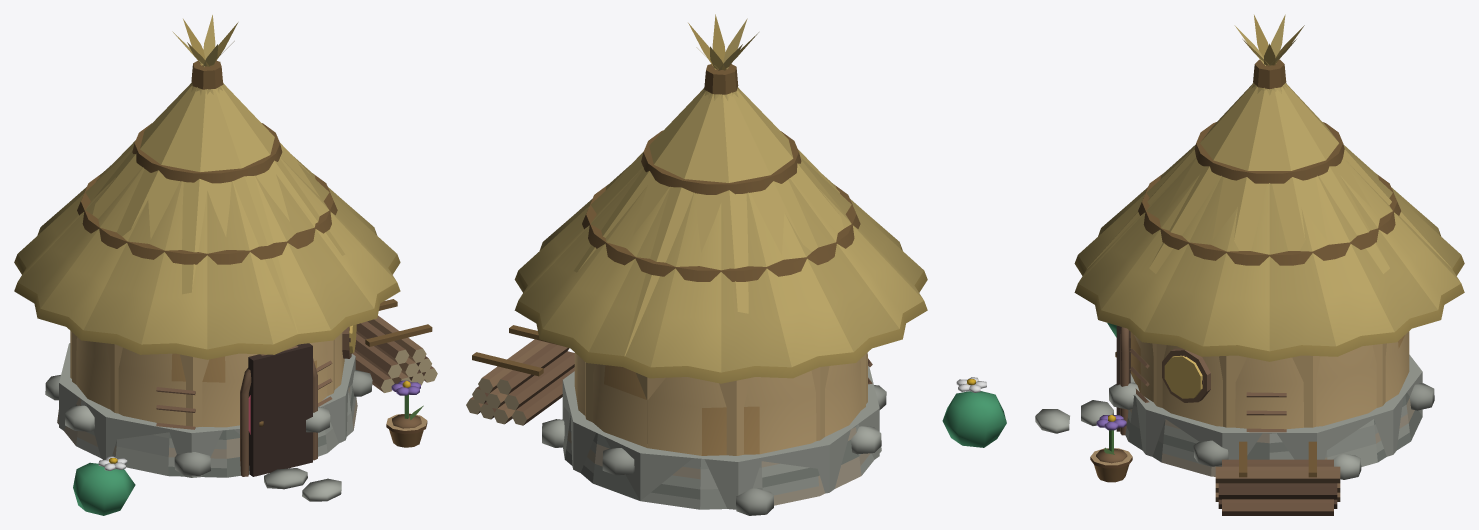
File: cottage_c.glb
The picture shows the model from 3 angles, left to right: view 1: azimuth 30°, elevation 25°; view 2: azimuth 150°, elevation 25°; view 3: azimuth 270°, elevation 25°; orthographic projection. The views are drawn at different scales.
Parts seen in each view (by area): view 1: body_nl, body__far, body, body_nh; view 2: body_nl, body, body__far, body_nh; view 3: body_nl, body, body__far, body_nh.
Part boxes in pixels (x1,y1,x2,y2): body_nl: [14, 60, 420, 515]; body__far: [59, 83, 355, 477]; body: [45, 299, 437, 501]; body_nh: [172, 15, 423, 419]; body_nl: [514, 64, 1006, 447]; body: [466, 325, 886, 515]; body__far: [562, 88, 879, 509]; body_nh: [688, 14, 758, 70]; body_nl: [1074, 59, 1464, 430]; body: [1035, 327, 1434, 515]; body__far: [1087, 83, 1451, 466]; body_nh: [1104, 14, 1304, 454].
Bounding box in the file's own units: 2.86 × 2.64 × 2.58.
